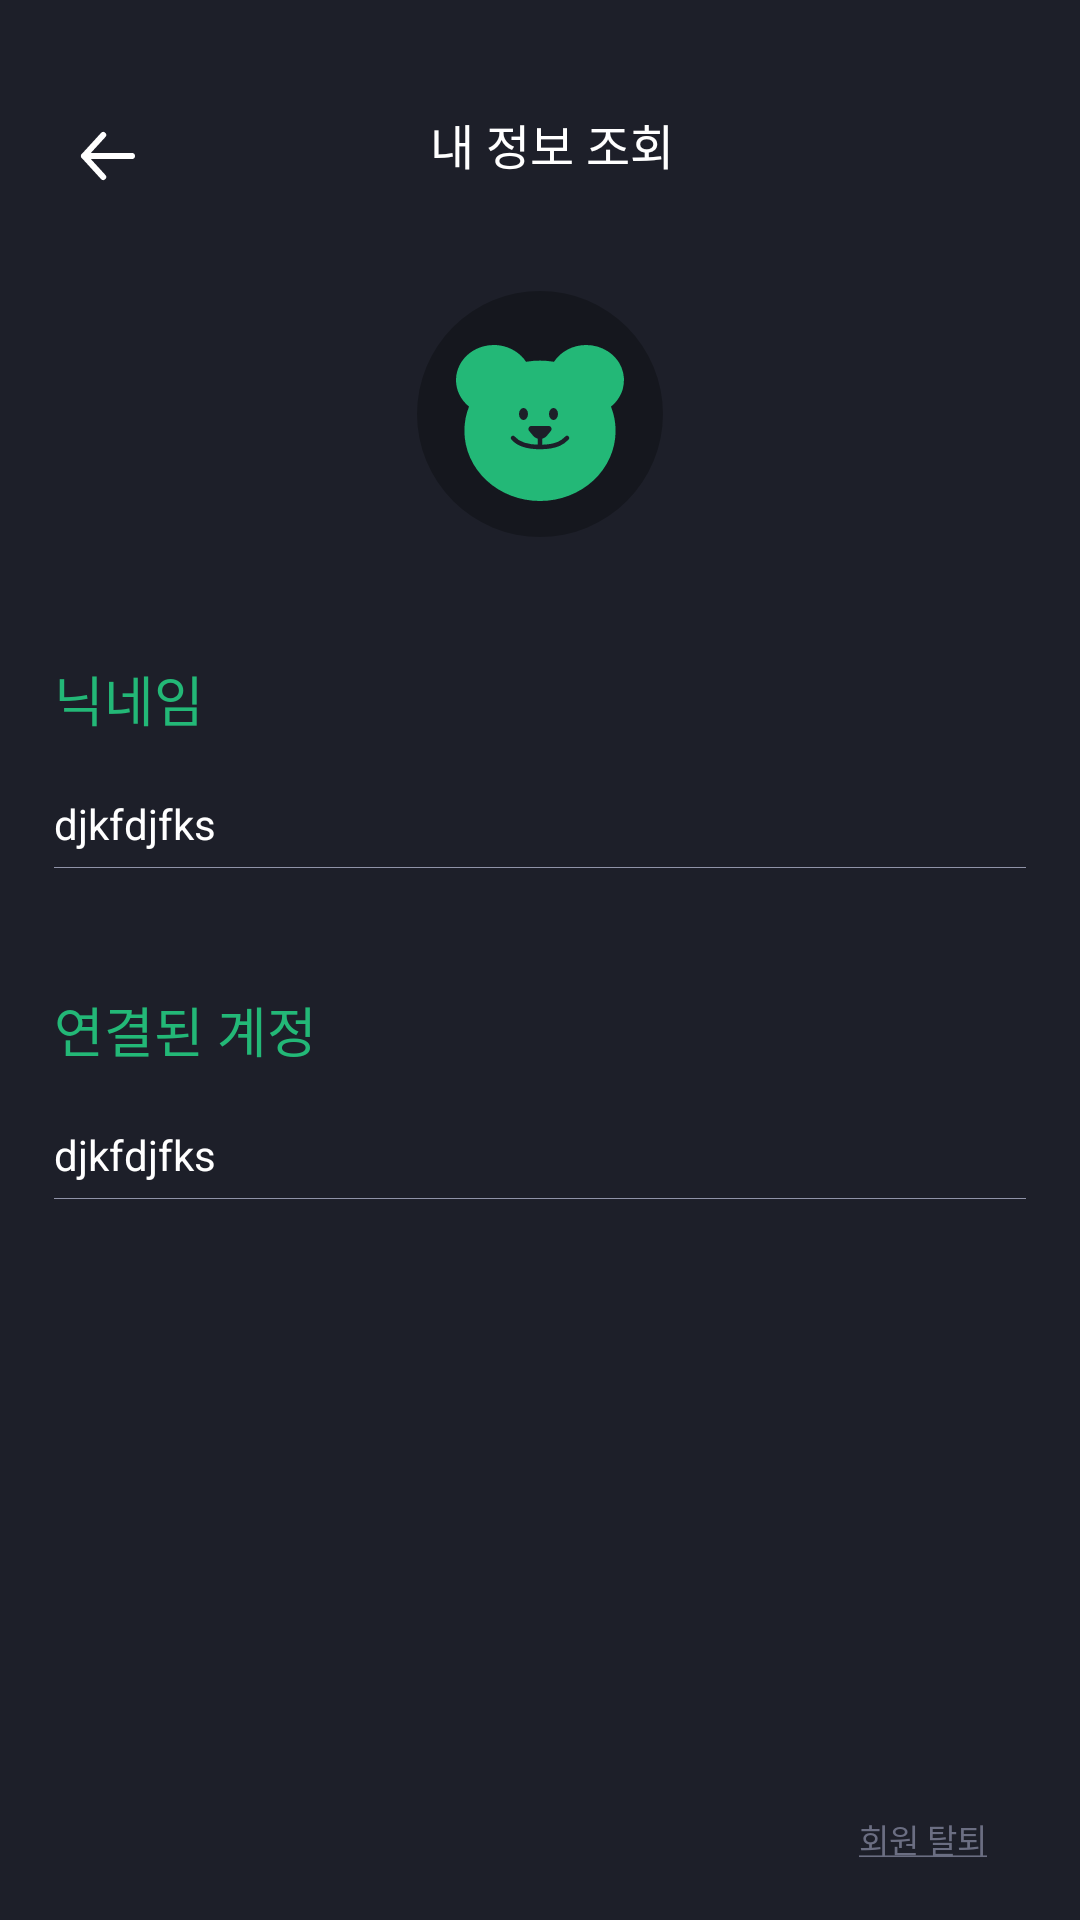

Named icons in this screenshot (1080px×1920px) and their bounding boxes, [x1,y1,x2,y2]:
profile: [456,345,624,501]
